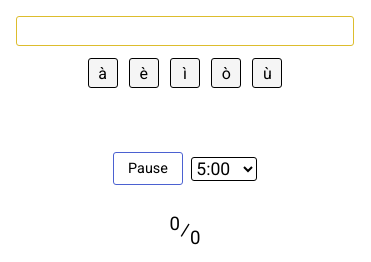
Test: accent buttons › add the accent to input when clicked
This screenshot has width=371, height=262.
Click the button "à" at (103, 73), box [88, 58, 118, 88]
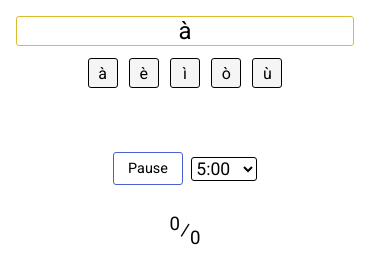
Click the button "è" at (144, 73), box [129, 58, 159, 88]
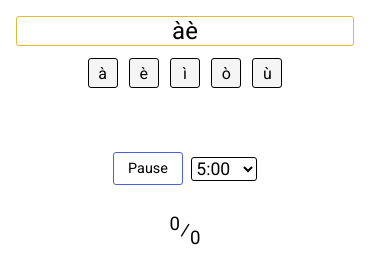
Expected: the field showing "àè" is shown, [16, 16, 354, 46]
